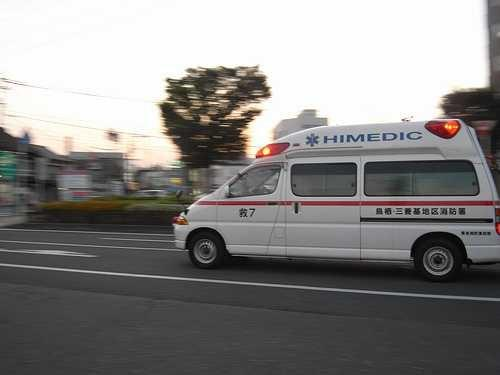car: (171, 117, 499, 281)
